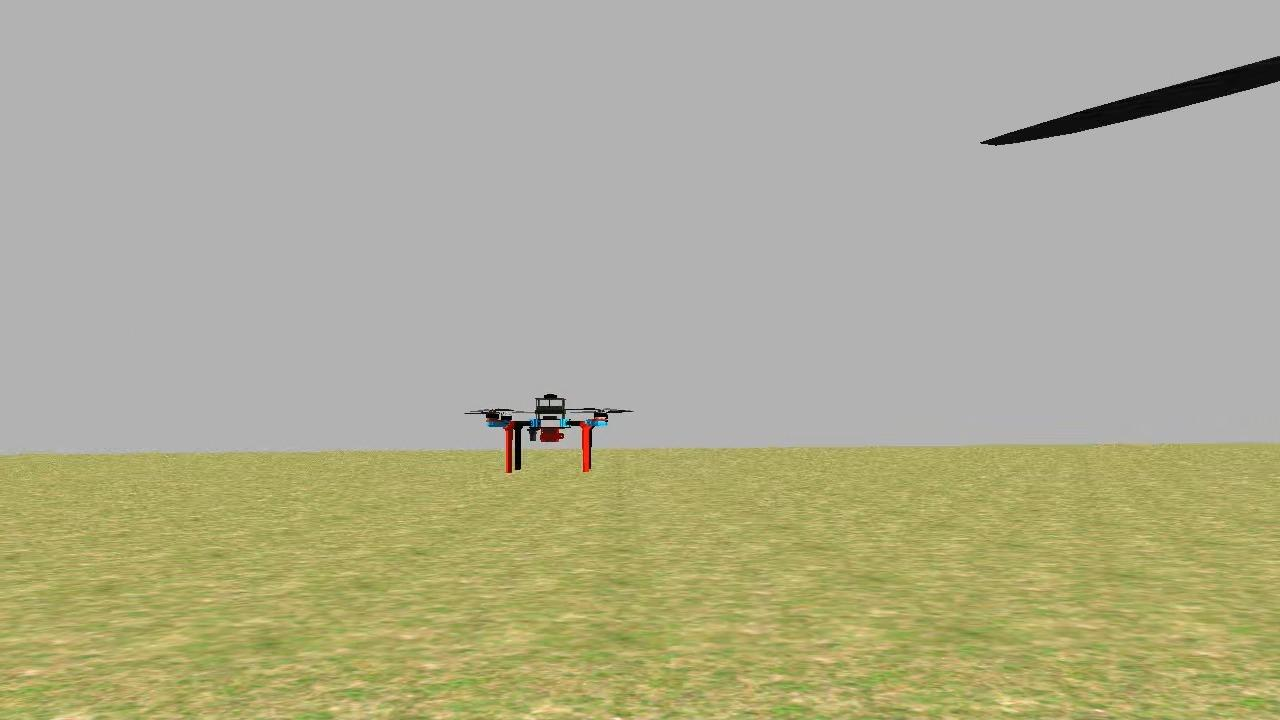UAV: (470, 381, 634, 478)
